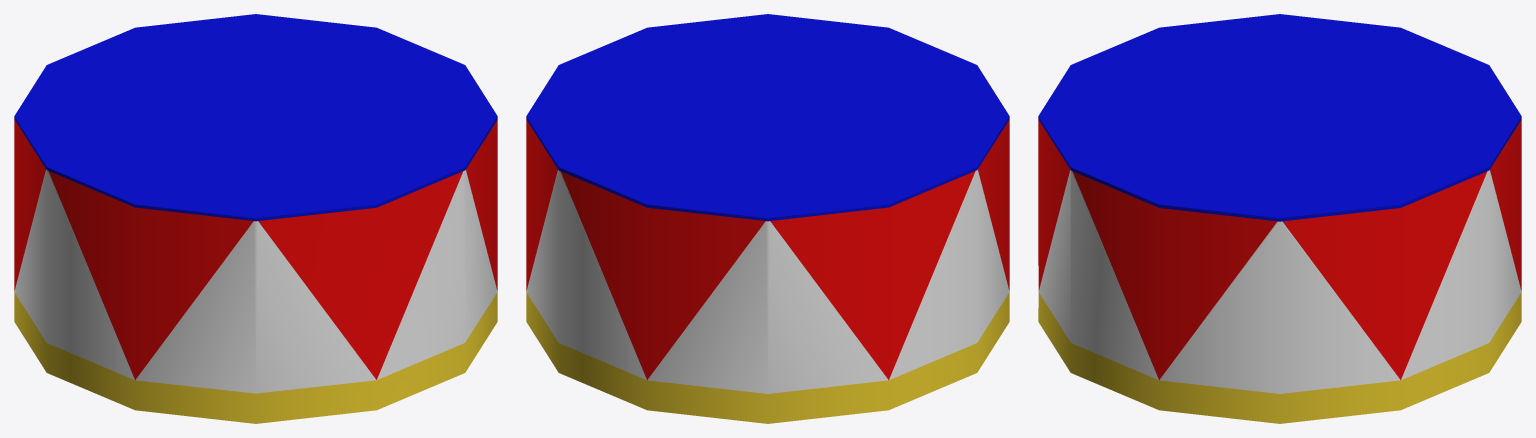
The model's file is SM_CircusPlatform.fbx.
3 renders of one model, left to right at view 1: azimuth 30°, elevation 25°; view 2: azimuth 150°, elevation 25°; view 3: azimuth 270°, elevation 25°, orthographic.
Visible parts, largest first — view 1: CircusPlatform_low; view 2: CircusPlatform_low; view 3: CircusPlatform_low.
Boxes of the visible parts, left/top/right/bottom form: CircusPlatform_low: left=14, top=14, right=497, bottom=423; CircusPlatform_low: left=526, top=14, right=1009, bottom=423; CircusPlatform_low: left=1038, top=14, right=1521, bottom=423.
Size of the model in its own units: 48.87 by 22.96 by 48.87.
